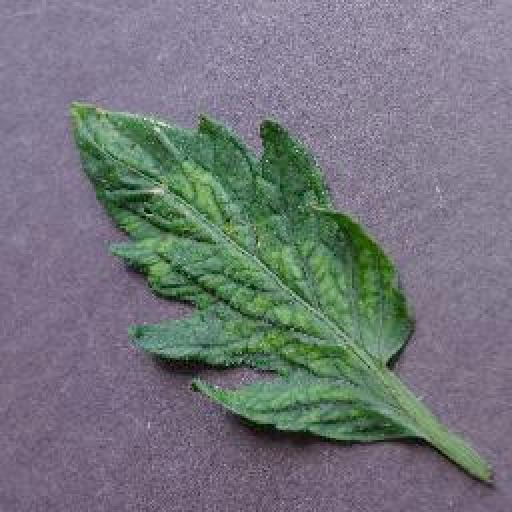disease_tomato: (66, 95, 420, 441)
